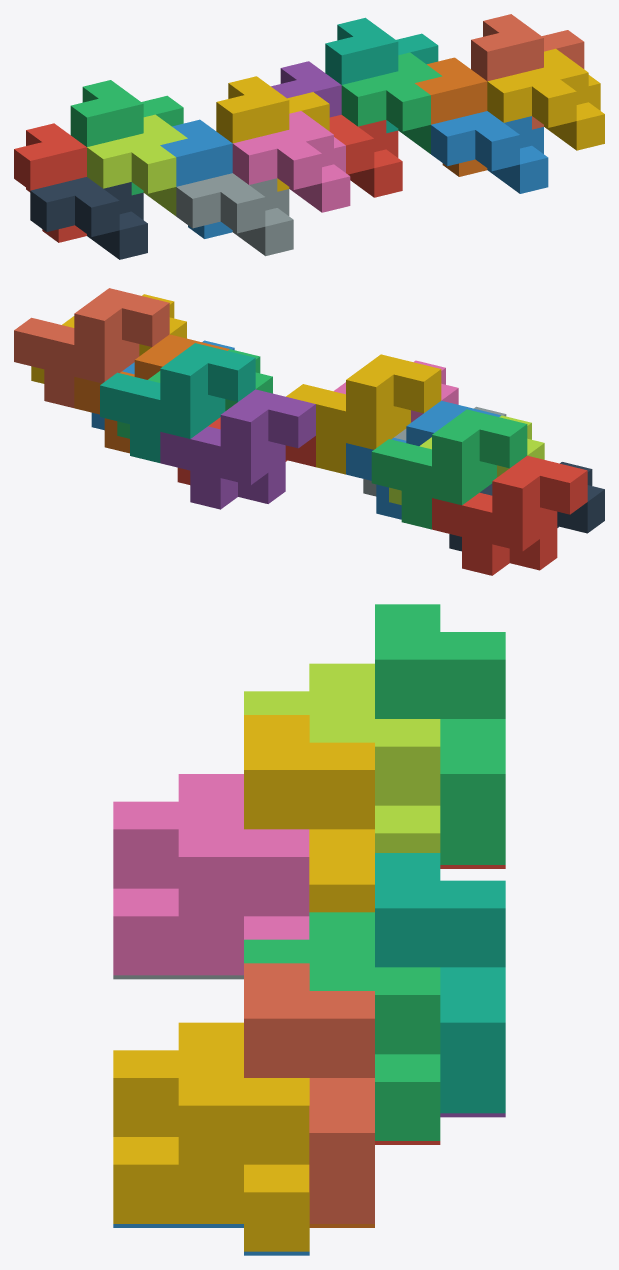
Rendered from tiling.obj.
3 renders of one model, top to bottom at view 1: azimuth 30°, elevation 25°; view 2: azimuth 150°, elevation 25°; view 3: azimuth 270°, elevation 25°, orthographic. The views are drawn at different scales.
Visible parts, largest first — view 1: copy_2_domain_4, copy_2_domain_8, copy_2_domain_2, copy_2_domain_1, copy_2_domain_6, copy_2_domain_3, copy_2_domain_7, copy_1_domain_4, copy_1_domain_8, copy_1_domain_3, copy_1_domain_7, copy_1_domain_1 (+4 smaller); view 2: copy_1_domain_5, copy_1_domain_1, copy_1_domain_3, copy_1_domain_7, copy_1_domain_8, copy_1_domain_4, copy_1_domain_6, copy_1_domain_2, copy_2_domain_1, copy_2_domain_5, copy_2_domain_8, copy_2_domain_7 (+3 smaller); view 3: copy_2_domain_8, copy_2_domain_4, copy_1_domain_7, copy_1_domain_3, copy_1_domain_8, copy_1_domain_4, copy_2_domain_7, copy_2_domain_3, copy_2_domain_6.
Part boxes in pixels (box(x1,y1,x2,y2)): copy_2_domain_4: box(232, 111, 350, 212); copy_2_domain_8: box(487, 48, 604, 150); copy_2_domain_2: box(176, 173, 293, 256); copy_2_domain_1: box(30, 177, 147, 259); copy_2_domain_6: box(431, 111, 548, 193); copy_2_domain_3: box(87, 114, 187, 216); copy_2_domain_7: box(341, 52, 442, 153); copy_1_domain_4: box(216, 76, 329, 191); copy_1_domain_8: box(471, 14, 584, 129); copy_1_domain_3: box(70, 80, 183, 195); copy_1_domain_7: box(325, 17, 438, 133); copy_1_domain_1: box(14, 123, 86, 242); copy_1_domain_5: box(160, 389, 315, 509); copy_1_domain_1: box(432, 455, 587, 575); copy_1_domain_3: box(371, 409, 527, 529); copy_1_domain_7: box(100, 343, 255, 462); copy_1_domain_8: box(14, 288, 169, 407); copy_1_domain_4: box(286, 354, 441, 474); copy_1_domain_6: box(74, 334, 229, 453); copy_1_domain_2: box(346, 400, 501, 519); copy_2_domain_1: box(449, 462, 604, 551); copy_2_domain_5: box(177, 417, 315, 484); copy_2_domain_8: box(31, 294, 186, 383); copy_2_domain_7: box(117, 349, 272, 438); copy_2_domain_8: box(113, 1022, 309, 1251); copy_2_domain_4: box(113, 774, 309, 975); copy_1_domain_7: box(375, 853, 505, 1113); copy_1_domain_3: box(375, 604, 505, 864); copy_1_domain_8: box(244, 963, 374, 1223); copy_1_domain_4: box(244, 715, 374, 912); copy_2_domain_7: box(244, 912, 440, 1140); copy_2_domain_3: box(244, 663, 440, 852); copy_2_domain_6: box(113, 1224, 309, 1255).
Bounding box in the file's own units: 19 × 4 × 6.
